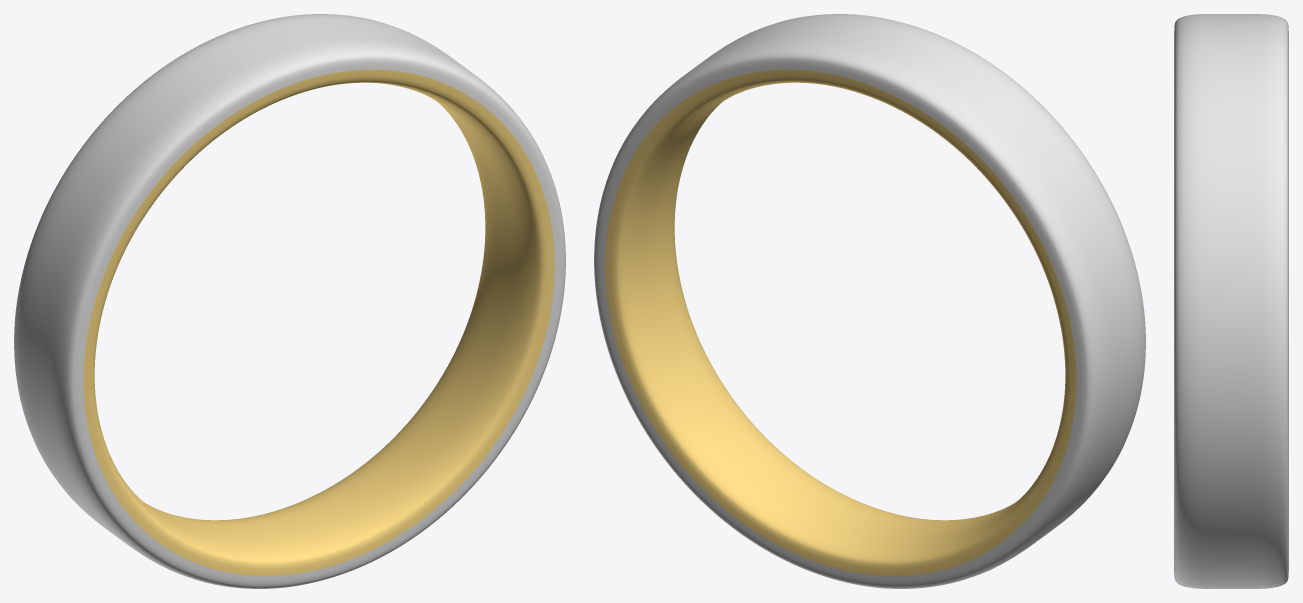
The model's file is tylerHeintz_webgi.glb.
3 views of the same model, side by side, from view 1: azimuth 30°, elevation 25°; view 2: azimuth 150°, elevation 25°; view 3: azimuth 270°, elevation 25° (orthographic).
Visible parts, largest first — view 1: tyler_PT__for_3d_model, tyler_YG_for_3d_model; view 2: tyler_PT__for_3d_model, tyler_YG_for_3d_model; view 3: tyler_PT__for_3d_model.
Part boxes in pixels (<box>): tyler_PT__for_3d_model: <box>14,14,565,588</box>; tyler_YG_for_3d_model: <box>83,69,554,575</box>; tyler_PT__for_3d_model: <box>594,14,1145,588</box>; tyler_YG_for_3d_model: <box>605,69,1076,575</box>; tyler_PT__for_3d_model: <box>1174,14,1288,588</box>.
Bounding box in the file's own units: 2.8 × 2.8 × 0.559.
